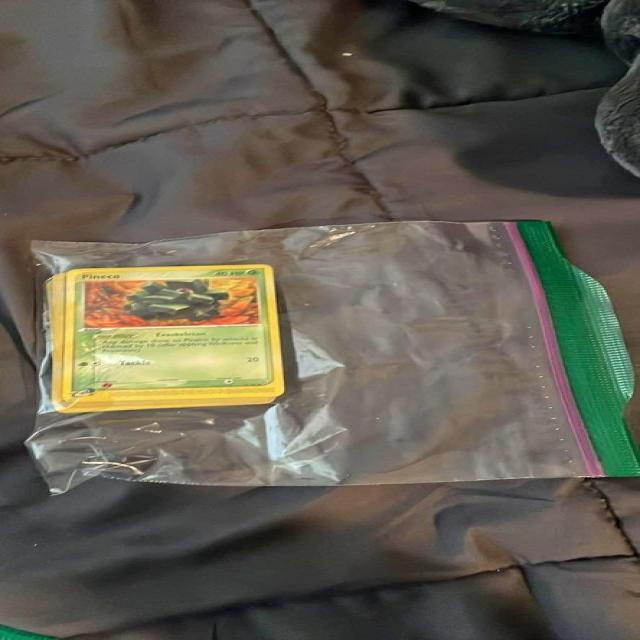card: (62, 264, 285, 402)
